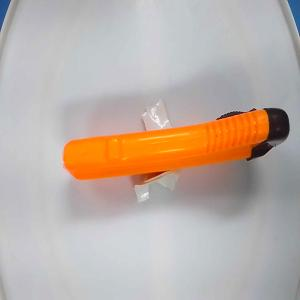estilete: (62, 106, 290, 183)
